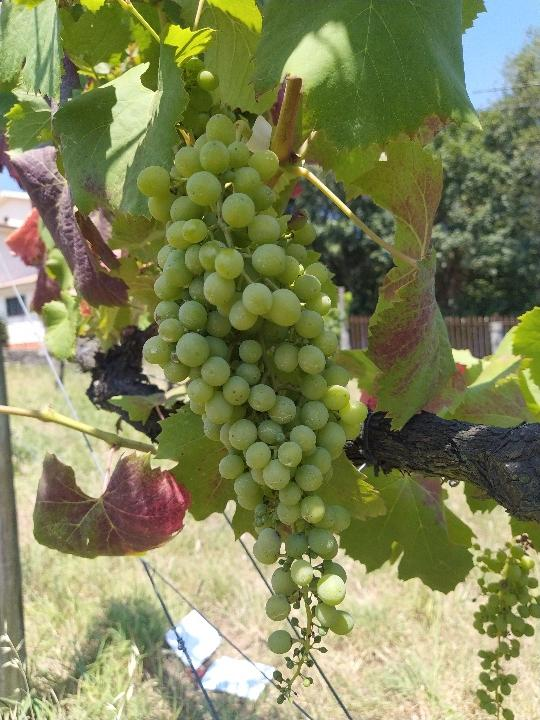grape: (140, 55, 368, 706), (462, 537, 537, 717)
